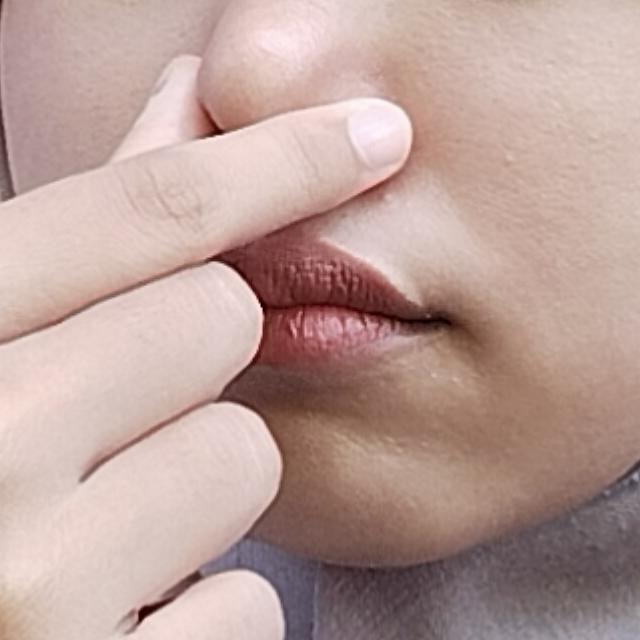bau: (0, 38, 476, 640)
